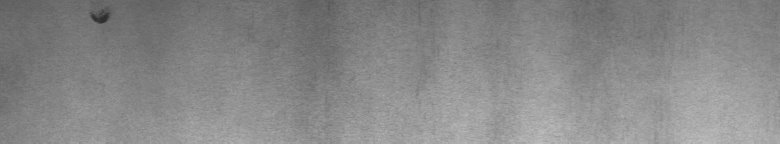fi: (84, 4, 115, 32)
